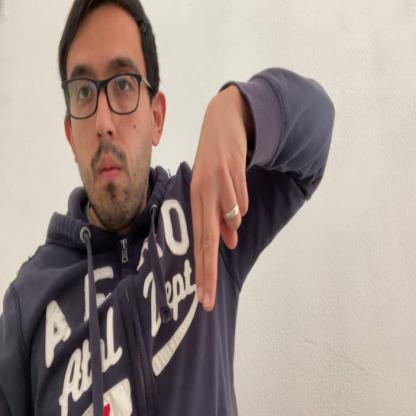N: (190, 93, 250, 314)
